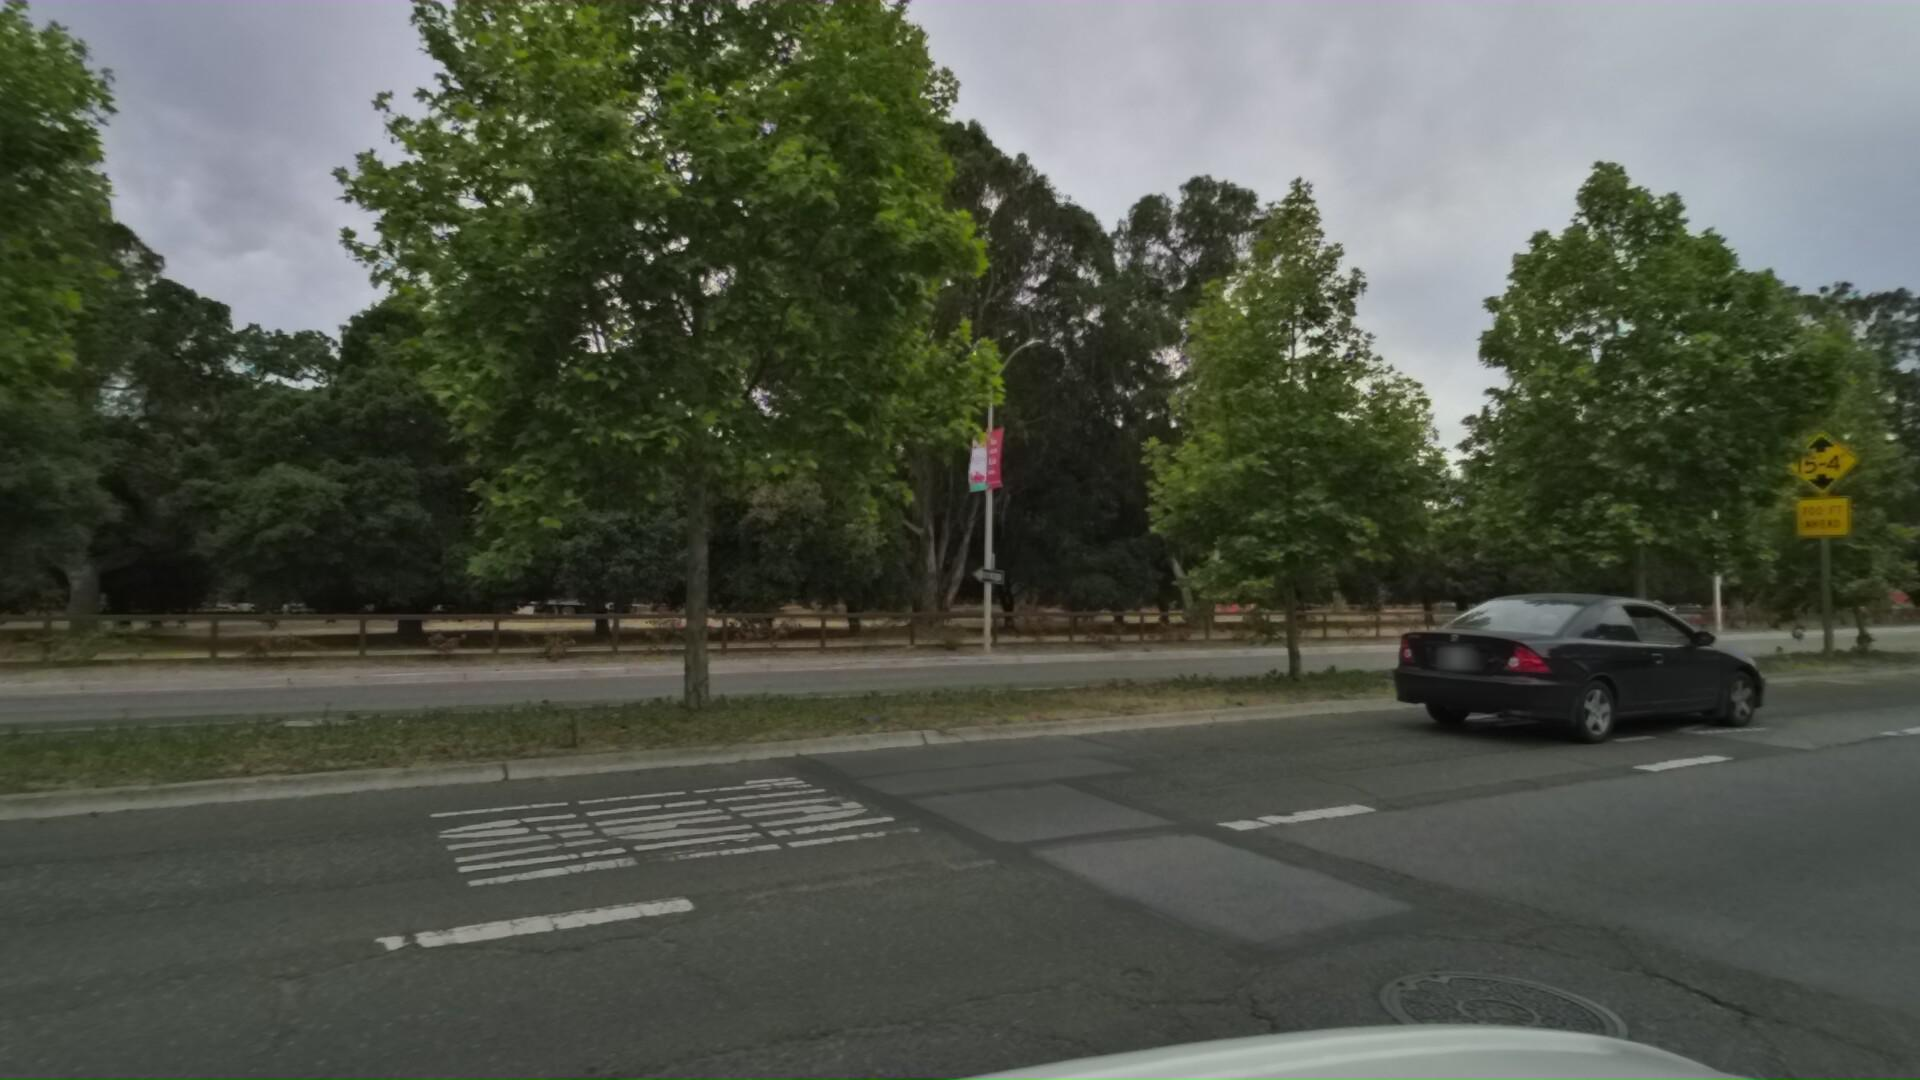car: (1382, 578, 1797, 756)
